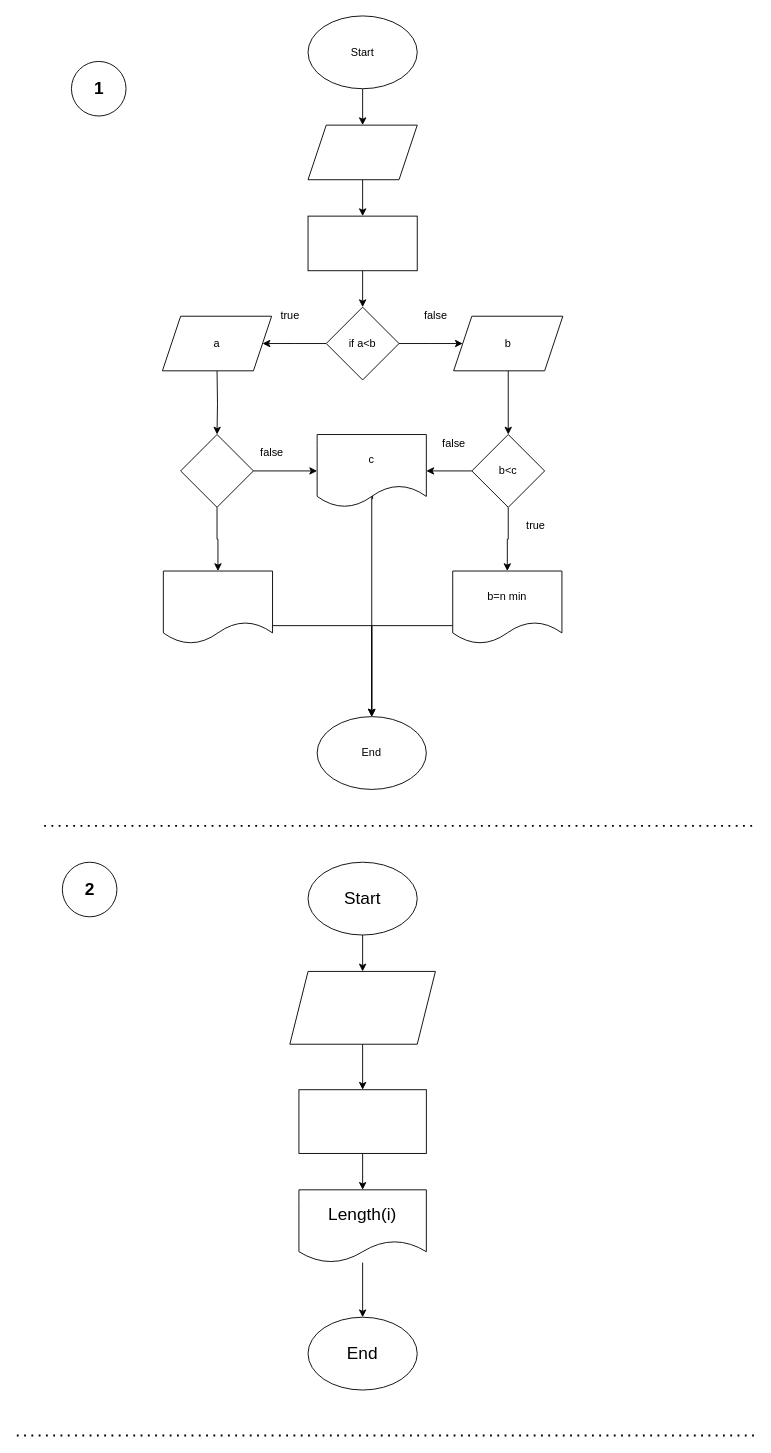
This 771x1453 diagram has some shape labels left out. Each missing label, with the centre of its shape:
"a<c" belongs at point 216,470.
"a=n min" belongs at point 217,607.
"Array(a,b.c..n)" belongs at point 362,1007.
"Array(a.b.c) n(min)" belongs at point 362,152.
"i=0, i<=length(i),i++" belongs at point 362,1121.
"i=0, i<=length(i)-1.i++" belongs at point 362,243.
